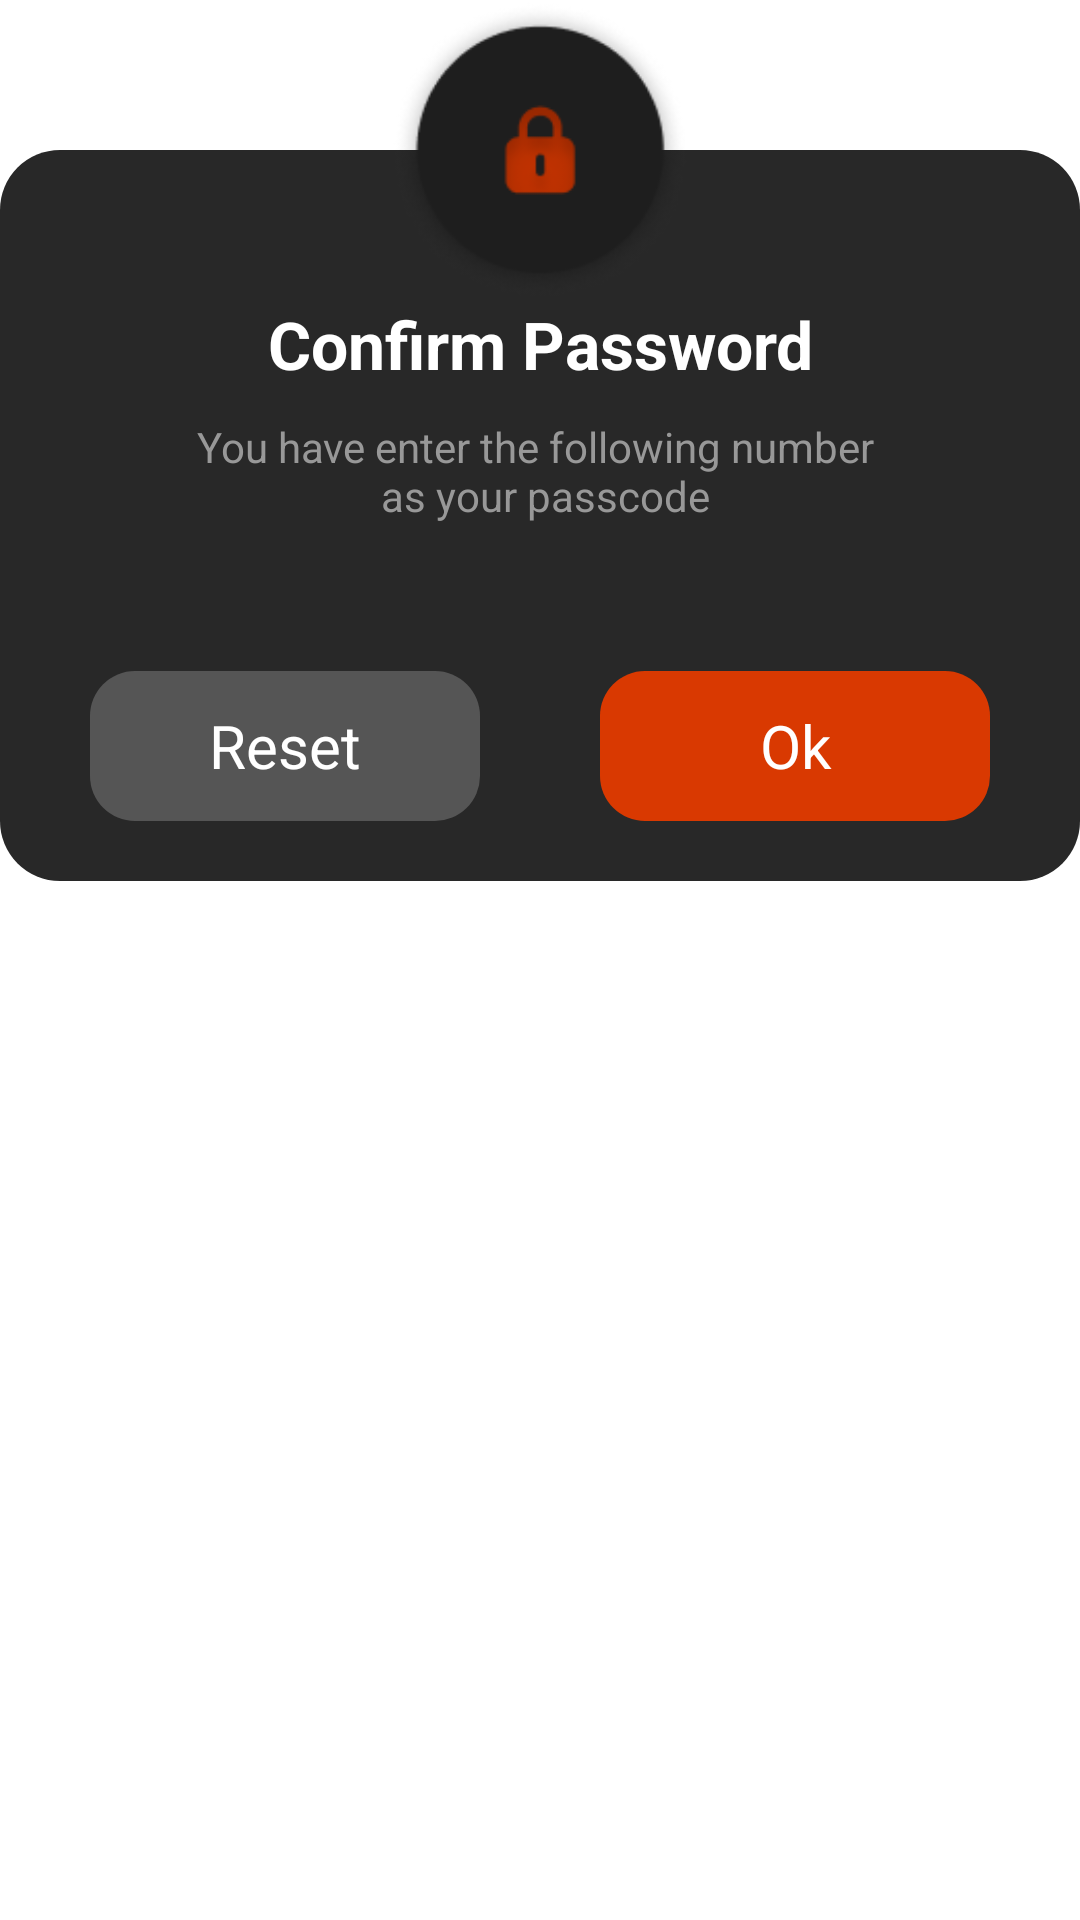

Named icons in this screenshot (1080px x 1920px) and their bounding boxes, [x1=x1, y1=y1, x2=x2, y2=y2]:
lock: [x1=390, y1=0, x2=690, y2=273]
